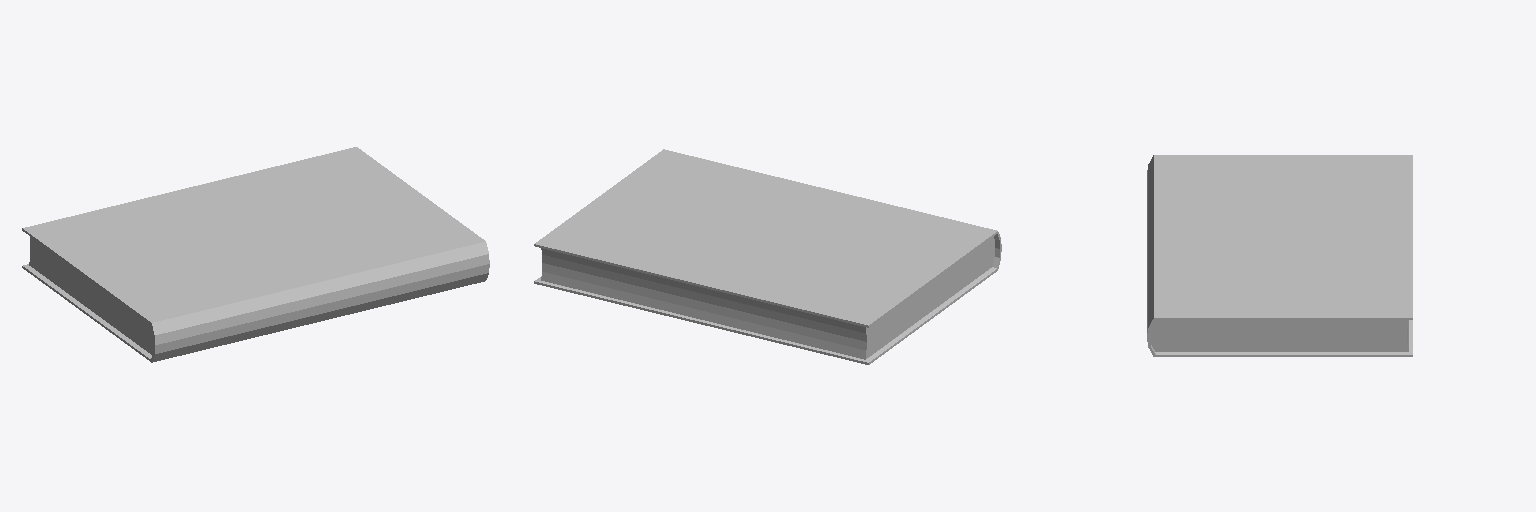
File: book2.obj
3 renders of one model, left to right at view 1: azimuth 30°, elevation 25°; view 2: azimuth 150°, elevation 25°; view 3: azimuth 270°, elevation 25°, orthographic.
Parts seen in each view (by area): view 1: pCube1; view 2: pCube1; view 3: pCube1.
Boxes of the visible parts, <box> form: pCube1: <box>22,147,489,362</box>; pCube1: <box>534,149,1001,364</box>; pCube1: <box>1147,155,1412,356</box>.
Bounding box in the file's own units: 15 × 1.7 × 10.33.